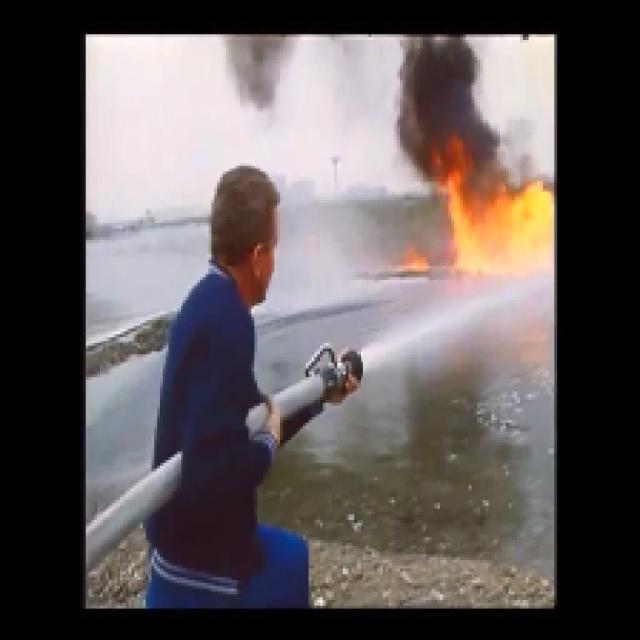Fire: (438, 191, 556, 275)
Smoke: (402, 39, 474, 164)
